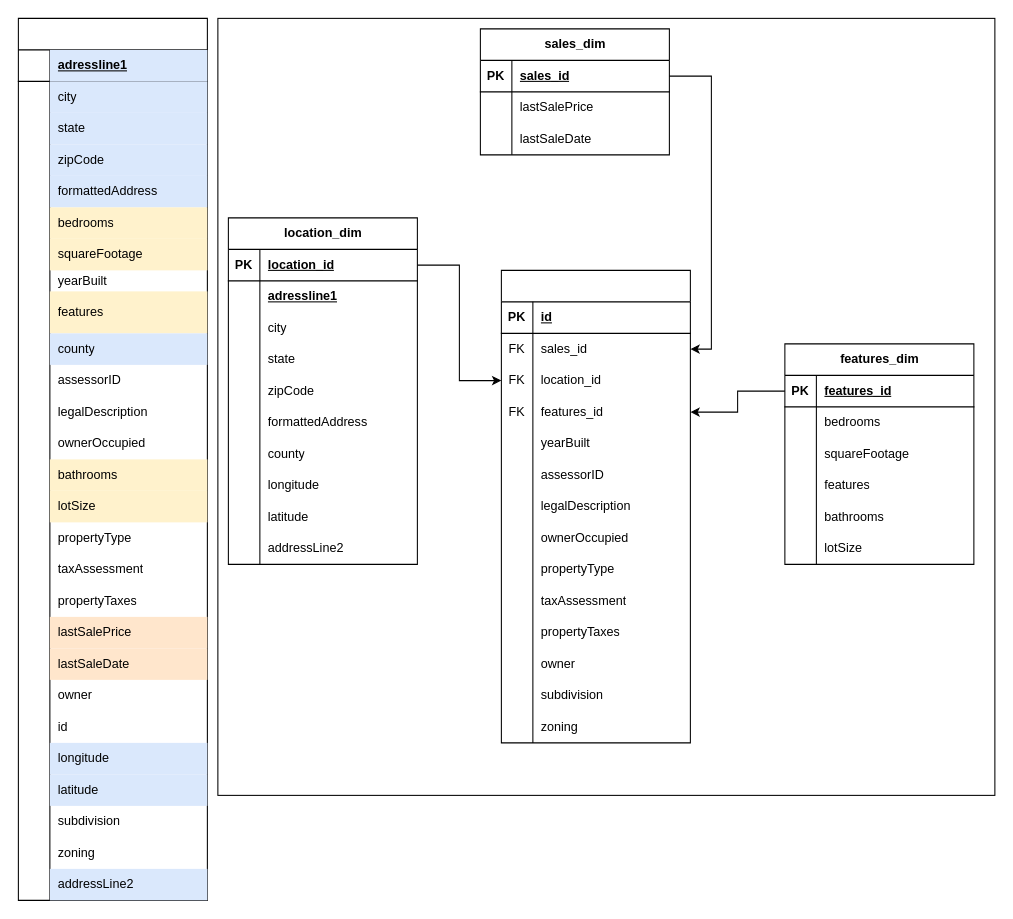
Image size: 1013x919. Some labels were removed from this diagram. The box of each missing label's shape, as (x1, y1, x2, y2) in pixels:
property_fact_table: (500, 269, 690, 743)
real_estate_df: (17, 17, 207, 900)
